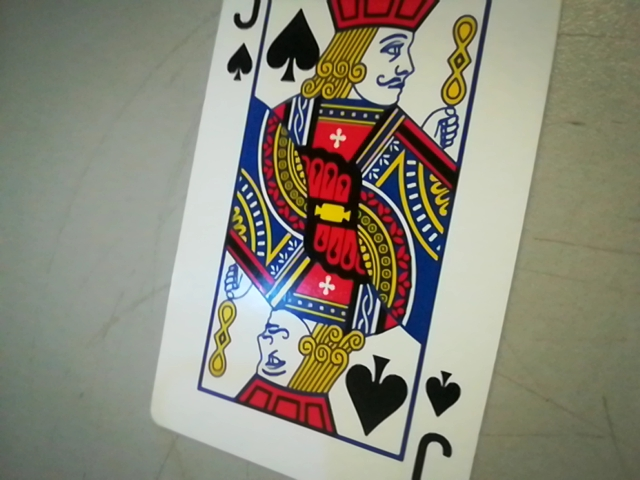ht j: (400, 360, 470, 480)
